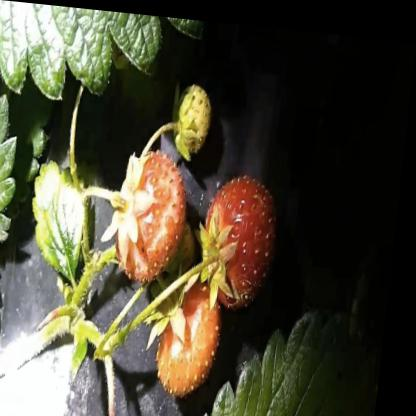ripe: (281, 95, 370, 191), (169, 157, 249, 250), (330, 28, 407, 92)
